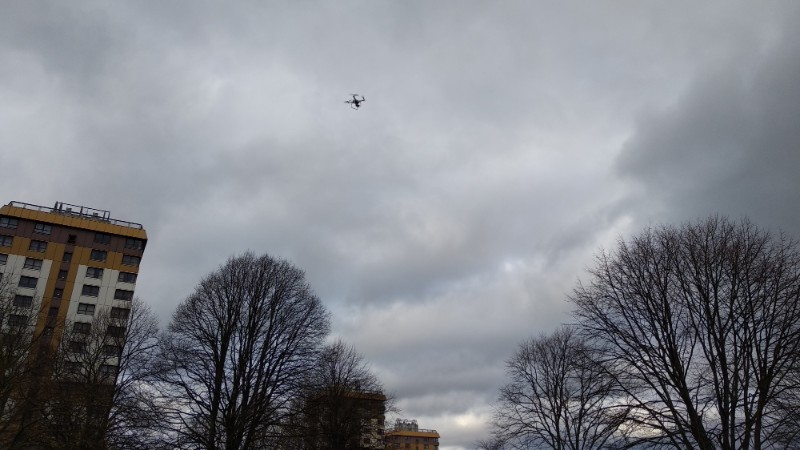drone: (345, 94, 367, 109)
